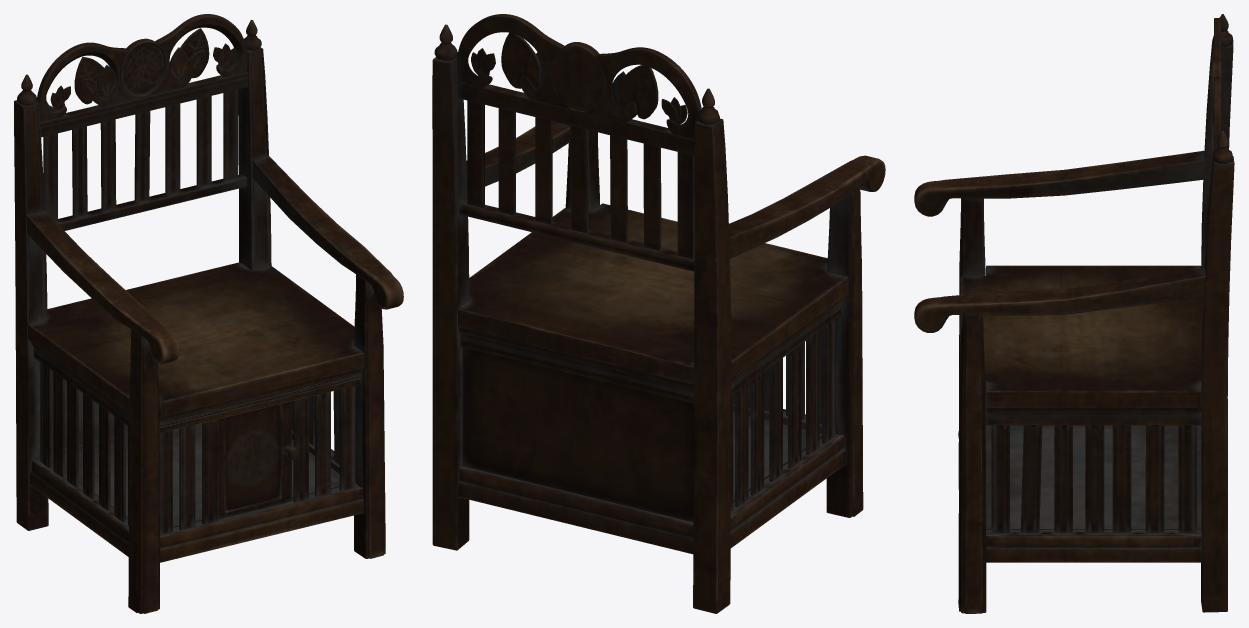
The model's file is gallinera_chair.glb.
3 renders of one model, left to right at view 1: azimuth 30°, elevation 25°; view 2: azimuth 150°, elevation 25°; view 3: azimuth 270°, elevation 25°, orthographic. The views are drawn at different scales.
Parts seen in each view (by area): view 1: gallinera_chair; view 2: gallinera_chair; view 3: gallinera_chair.
Boxes of the visible parts, left/top/right/bottom form: gallinera_chair: left=14, top=14, right=403, bottom=613; gallinera_chair: left=432, top=14, right=885, bottom=613; gallinera_chair: left=914, top=14, right=1234, bottom=613.
Bounding box in the file's own units: 0.5808 × 1.03 × 0.6039.
Materials: 1 (1 with a texture image).
